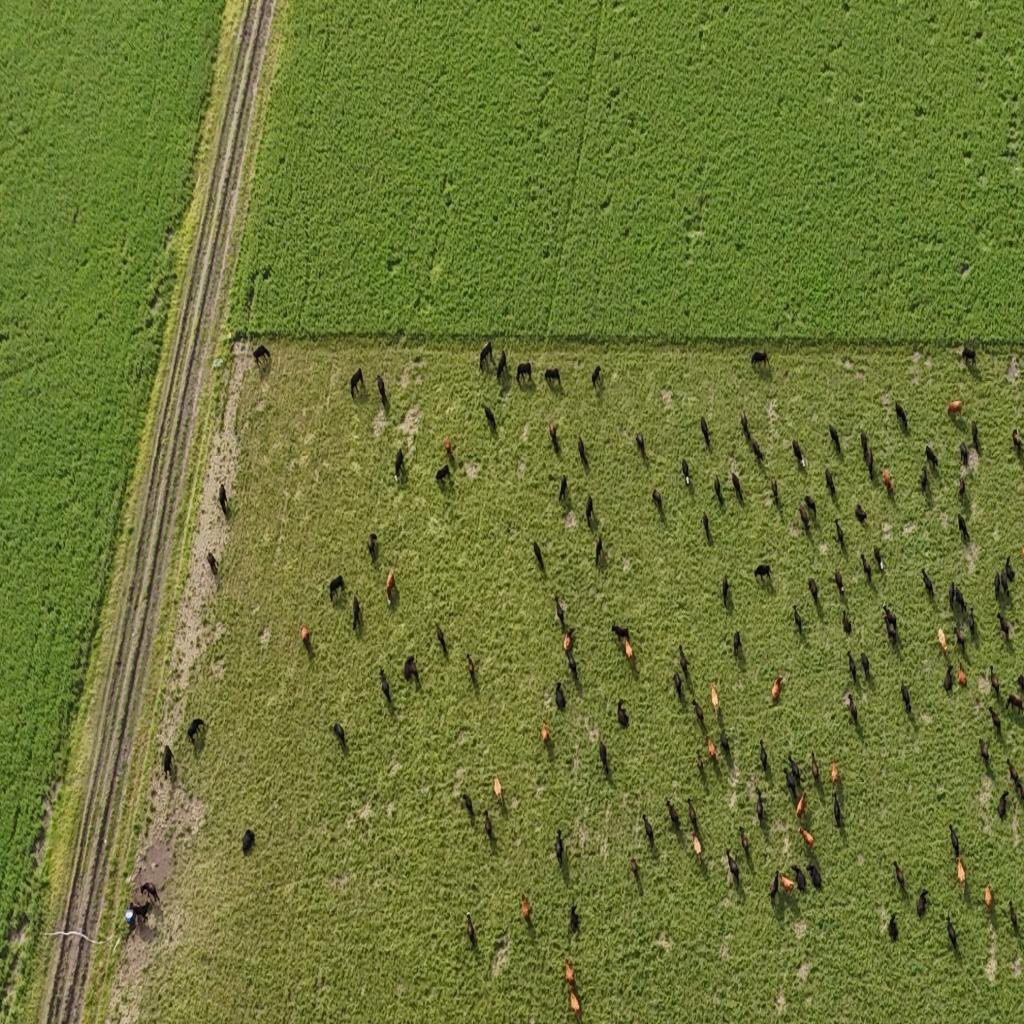cow: (128, 900, 150, 928), (882, 606, 898, 642), (186, 718, 206, 746), (726, 849, 740, 889), (1006, 758, 1022, 793), (946, 914, 959, 953), (403, 655, 419, 685), (140, 881, 160, 905), (788, 751, 803, 783), (253, 344, 271, 370), (988, 704, 1002, 737), (786, 775, 800, 808), (954, 582, 967, 617), (329, 574, 345, 602), (350, 368, 364, 400), (479, 340, 493, 372), (894, 400, 908, 432), (642, 813, 655, 847), (610, 622, 630, 644), (598, 740, 610, 776), (379, 668, 391, 704), (954, 623, 968, 653), (792, 439, 806, 469), (916, 888, 930, 918), (1014, 760, 1024, 802), (769, 868, 780, 906), (516, 361, 532, 387), (495, 350, 508, 382), (667, 798, 680, 830), (893, 859, 906, 891), (731, 470, 744, 502), (957, 854, 967, 895), (376, 374, 388, 408), (554, 827, 564, 867), (949, 823, 960, 859), (483, 404, 497, 432), (808, 862, 822, 890), (998, 612, 1011, 642), (577, 436, 588, 471), (394, 448, 406, 480), (462, 791, 474, 823), (436, 624, 448, 656), (861, 552, 873, 584), (829, 424, 841, 456), (241, 828, 255, 855), (333, 722, 347, 749), (544, 367, 561, 389), (687, 798, 698, 832), (901, 681, 912, 715), (1004, 554, 1015, 588), (566, 651, 578, 682), (799, 825, 815, 848), (961, 345, 977, 368), (794, 866, 807, 894), (925, 445, 939, 471), (754, 564, 772, 584), (798, 503, 810, 533), (548, 422, 560, 452), (466, 911, 476, 947), (352, 596, 362, 632), (848, 650, 858, 686), (996, 790, 1008, 820), (922, 568, 934, 598), (720, 732, 732, 762), (779, 872, 796, 893), (436, 463, 452, 485), (980, 737, 991, 769), (554, 594, 565, 626), (483, 810, 494, 842), (793, 605, 804, 637), (750, 350, 769, 368), (833, 790, 842, 828), (739, 825, 750, 856), (810, 752, 820, 786), (755, 789, 765, 823), (751, 437, 764, 463), (937, 626, 949, 654), (617, 700, 629, 728), (694, 699, 706, 727), (808, 577, 820, 605), (854, 502, 868, 526), (988, 666, 1000, 694), (533, 540, 544, 570), (570, 988, 581, 1018), (673, 671, 684, 701), (630, 857, 641, 887), (943, 664, 954, 694), (860, 650, 871, 680), (888, 911, 899, 941), (366, 532, 378, 559), (804, 495, 816, 522), (163, 746, 173, 778), (218, 483, 228, 515), (700, 417, 710, 449), (679, 643, 689, 675), (713, 474, 723, 506), (569, 902, 579, 934), (555, 682, 566, 711), (958, 513, 969, 542), (710, 680, 720, 711), (521, 892, 531, 923), (732, 629, 742, 660), (994, 568, 1004, 599), (834, 568, 845, 596), (740, 410, 750, 440), (558, 474, 568, 504), (825, 467, 835, 497), (835, 519, 845, 549), (920, 466, 930, 496), (652, 487, 663, 514), (860, 429, 869, 462), (796, 790, 806, 819), (564, 956, 574, 985), (760, 738, 768, 774), (585, 494, 594, 526), (972, 420, 980, 456), (968, 606, 977, 638), (882, 468, 893, 494), (207, 550, 218, 576), (1013, 691, 1024, 717), (842, 608, 852, 636), (874, 545, 884, 573), (848, 699, 858, 727), (591, 365, 602, 390), (707, 736, 717, 763), (948, 579, 956, 612), (467, 654, 476, 683), (692, 833, 702, 859), (960, 441, 970, 467), (722, 576, 730, 608), (595, 534, 603, 566), (386, 569, 395, 597), (682, 458, 691, 486), (771, 676, 781, 701), (957, 662, 967, 687), (443, 436, 453, 461), (702, 511, 710, 542), (1017, 899, 1024, 934), (696, 750, 705, 777), (830, 756, 838, 786), (563, 631, 573, 655), (947, 400, 962, 416), (635, 432, 645, 456), (867, 448, 874, 482), (984, 883, 993, 909), (624, 638, 634, 661), (494, 775, 502, 803), (771, 478, 779, 506), (1017, 427, 1024, 456), (300, 624, 309, 646), (541, 720, 549, 744), (958, 476, 966, 500), (1019, 674, 1024, 700), (960, 262, 970, 275)
